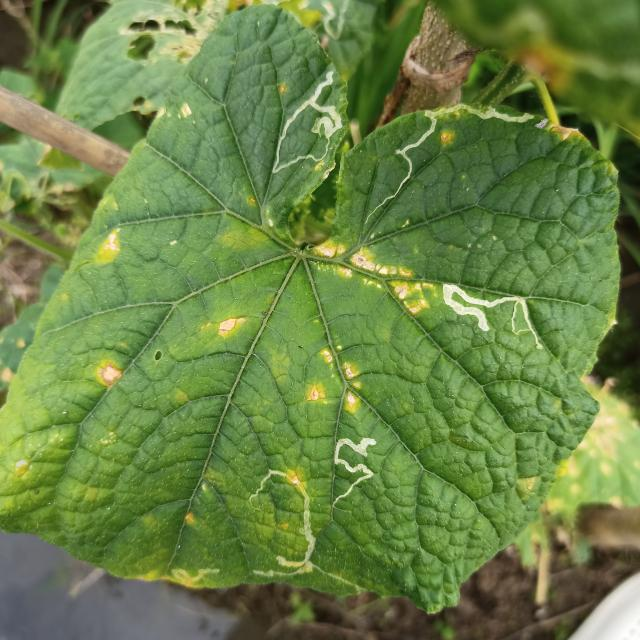disease_cucumber: (319, 239, 439, 317), (308, 344, 367, 414), (152, 100, 200, 129), (94, 226, 123, 267), (216, 314, 246, 336), (99, 360, 121, 389), (440, 128, 455, 148)
